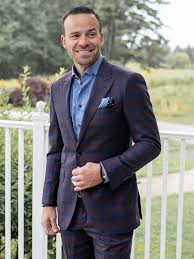F_M_suit jacket: (38, 57, 166, 239)
